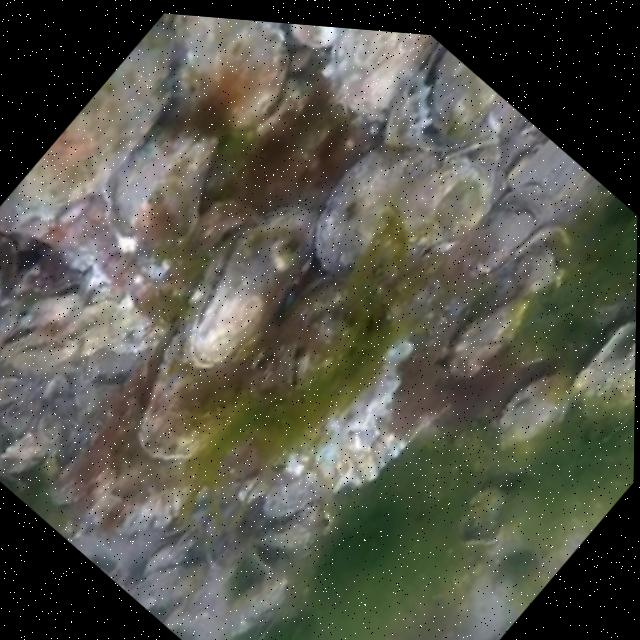Oyster-Closed: (155, 198, 330, 398)
Oyster-Indeterminate: (0, 22, 198, 284), (61, 85, 257, 305), (294, 113, 473, 310), (92, 326, 275, 517), (141, 12, 337, 177), (251, 263, 391, 419), (279, 23, 451, 143), (397, 140, 523, 273), (478, 347, 588, 470), (131, 529, 229, 634), (249, 452, 340, 551), (449, 284, 536, 386), (261, 483, 340, 576), (187, 179, 270, 267), (217, 559, 304, 640), (255, 21, 367, 61)
Oyster-Open: (394, 38, 504, 154), (0, 302, 86, 411), (567, 301, 636, 433), (503, 212, 585, 304)
